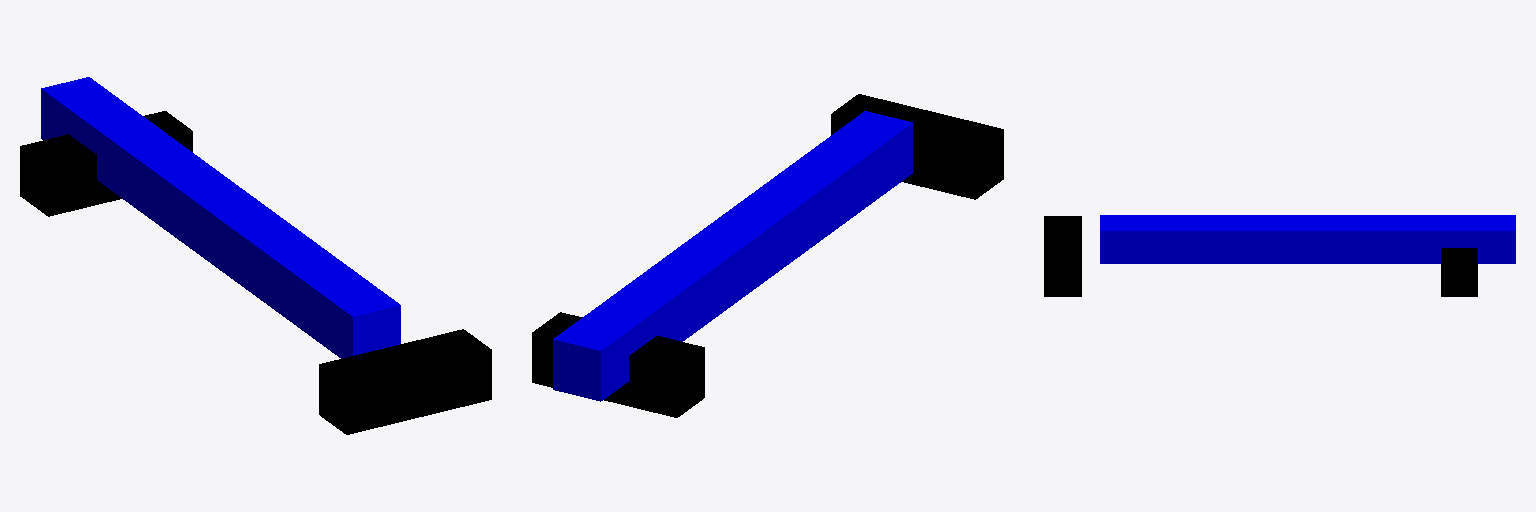
robot.urdf — steering_linkage:
<?xml version="1.0" ?>
<!-- =================================================================================== -->
<!-- |    This document was autogenerated by xacro from steering_linkage.urdf.xacro    | -->
<!-- |    EDITING THIS FILE BY HAND IS NOT RECOMMENDED                                 | -->
<!-- =================================================================================== -->
<robot name="steering_linkage" xmlns:xacro="http://www.ros.org/wiki/xacro">
  <!--Materials -->
  <material name="mat_1">
    <color rgba="0 0 1 1"/>
  </material>
  <material name="mat_2">
    <color rgba="0.5 0.5 0.5 1"/>
  </material>
  <material name="mat_3">
    <color rgba="0 0 0 1"/>
  </material>
  <!-- Macros -->
  <!-- Used for fixing robot to Gazebo 'base_link' -->
  <link name="world"/>
  <joint name="fixed" type="fixed">
    <parent link="world"/>
    <child link="steer_beam"/>
  </joint>
  <!-- steer_beam-->
  <link name="steer_beam">
    <visual>
      <origin rpy="0 0 0" xyz="0 0 0.05"/>
      <geometry>
        <box size="0.1 1.12 0.1"/>
      </geometry>
      <material name="mat_1"/>
    </visual>
    <collision>
      <origin rpy="0 0 0" xyz="0 0 0.05 "/>
      <geometry>
        <box size="0.1 1.12 0.1"/>
      </geometry>
    </collision>
    <inertial>
      <mass value="10"/>
      <origin/>
      <inertia ixx="1.05366666667" ixy="0" ixz="0" iyy="0.0166666666667" iyz="0" izz="1.05366666667"/>
    </inertial>
  </link>
  <gazebo reference="steer_beam">
    <material>Gazebo/Blue</material>
  </gazebo>
  <!-- control_arm left -->
  <link name="control_arm_left">
    <visual>
      <origin rpy="0 0 0" xyz="0 -0.125 0 "/>
      <geometry>
        <box size="0.3 0.1 0.1"/>
      </geometry>
      <material name="mat_3"/>
    </visual>
    <collision>
      <origin rpy="0 0 0" xyz="0 -0.125 0 "/>
      <geometry>
        <box size="0.3 0.1 0.1"/>
      </geometry>
    </collision>
    <inertial>
      <mass value="2"/>
      <origin/>
      <inertia ixx="0.00333333333333" ixy="0" ixz="0" iyy="0.0166666666667" iyz="0" izz="0.0166666666667"/>
    </inertial>
  </link>
  <!-- control_arm right -->
  <link name="control_arm_right">
    <visual>
      <origin rpy="0 0 0" xyz="0 -0.125 0 "/>
      <geometry>
        <box size="0.3 0.1 0.1"/>
      </geometry>
      <material name="mat_3"/>
    </visual>
    <collision>
      <origin rpy="0 0 0" xyz="0 -0.125 0 "/>
      <geometry>
        <box size="0.3 0.1 0.1"/>
      </geometry>
    </collision>
    <inertial>
      <mass value="2"/>
      <origin/>
      <inertia ixx="0.00333333333333" ixy="0" ixz="0" iyy="0.0166666666667" iyz="0" izz="0.0166666666667"/>
    </inertial>
  </link>
  <!-- steer_beam to control_arm_left joint -->
  <joint name="steer_beam_to_left_control_arm_joint" type="revolute">
    <parent link="steer_beam"/>
    <child link="control_arm_left"/>
    <origin rpy="0 0 0" xyz="0 0.535 0"/>
    <axis xyz="0 0 -1"/>
    <limit effort="50" lower="-0.785398163" upper="0.785398163" velocity="10"/>
  </joint>
  <!-- steer_beam to control_arm_right joint -->
  <joint name="steer_beam_to_right_control_arm_joint" type="revolute">
    <parent link="steer_beam"/>
    <child link="control_arm_right"/>
    <origin rpy="0 0 0" xyz="0 -0.535 0"/>
    <axis xyz="0 0 -1"/>
    <limit effort="50" lower="-0.785398163" upper="0.785398163" velocity="10"/>
  </joint>
</robot>

--- Render facts (derived) ---
Views: 3 orthographic renders of the robot side by side, from view 1: azimuth 30°, elevation 25°; view 2: azimuth 150°, elevation 25°; view 3: azimuth 270°, elevation 25°.
Model steering_linkage with 4 links and 3 joints (2 revolute, 1 fixed), rooted at world, posed all joints at 0.
Links seen in each view (by area): view 1: steer_beam, control_arm_right, control_arm_left; view 2: steer_beam, control_arm_right, control_arm_left; view 3: steer_beam, control_arm_right, control_arm_left.
Link boxes in pixels (bbox=[...]): steer_beam: bbox=[41, 77, 400, 358]; control_arm_right: bbox=[319, 329, 491, 434]; control_arm_left: bbox=[20, 111, 192, 216]; steer_beam: bbox=[553, 111, 912, 401]; control_arm_right: bbox=[831, 94, 1003, 199]; control_arm_left: bbox=[532, 312, 704, 417]; steer_beam: bbox=[1100, 215, 1515, 263]; control_arm_right: bbox=[1044, 216, 1081, 296]; control_arm_left: bbox=[1441, 248, 1477, 296].
Size in the robot's own frame: 0.3 by 1.27 by 0.15 metres.
Geometry: primitives only (box / cylinder / sphere), no mesh files.